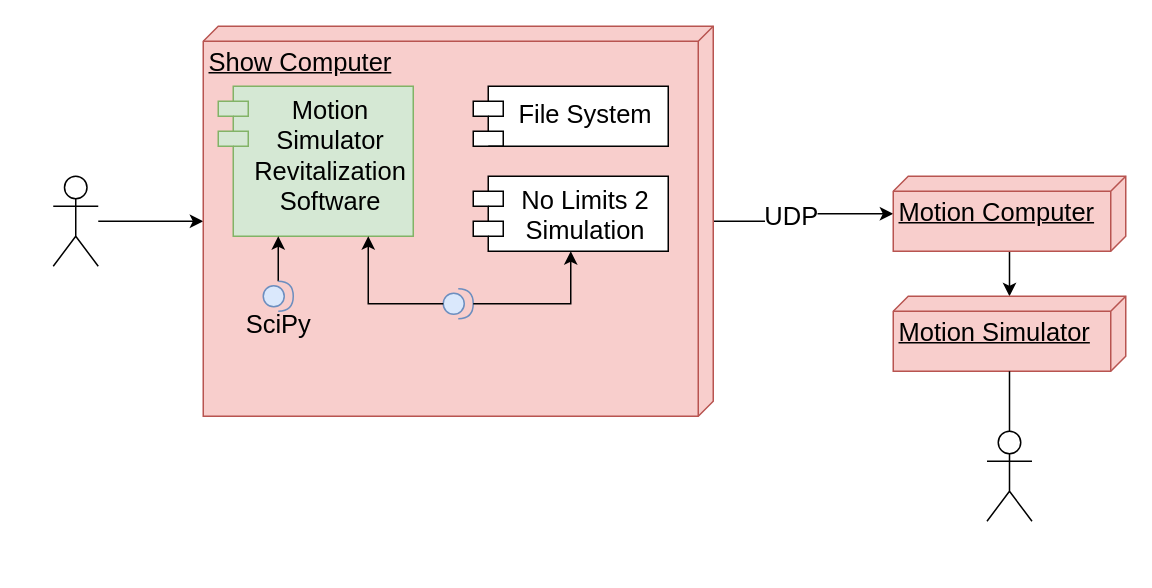
Some shapes in this 1152 by 588 pixel diagram are drawn without their labels. The shapes that lost their labels are listed below. From the top down, each one's box as (x1, y1, x2, y2) in pixels, then its label:
(52, 175, 98, 266): Operator
(442, 287, 473, 319): nl2telemetry
(986, 430, 1032, 521): Rider(s)
